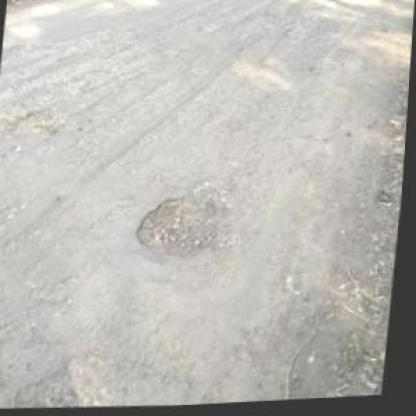pothole: (133, 193, 239, 263), (12, 107, 57, 136)
